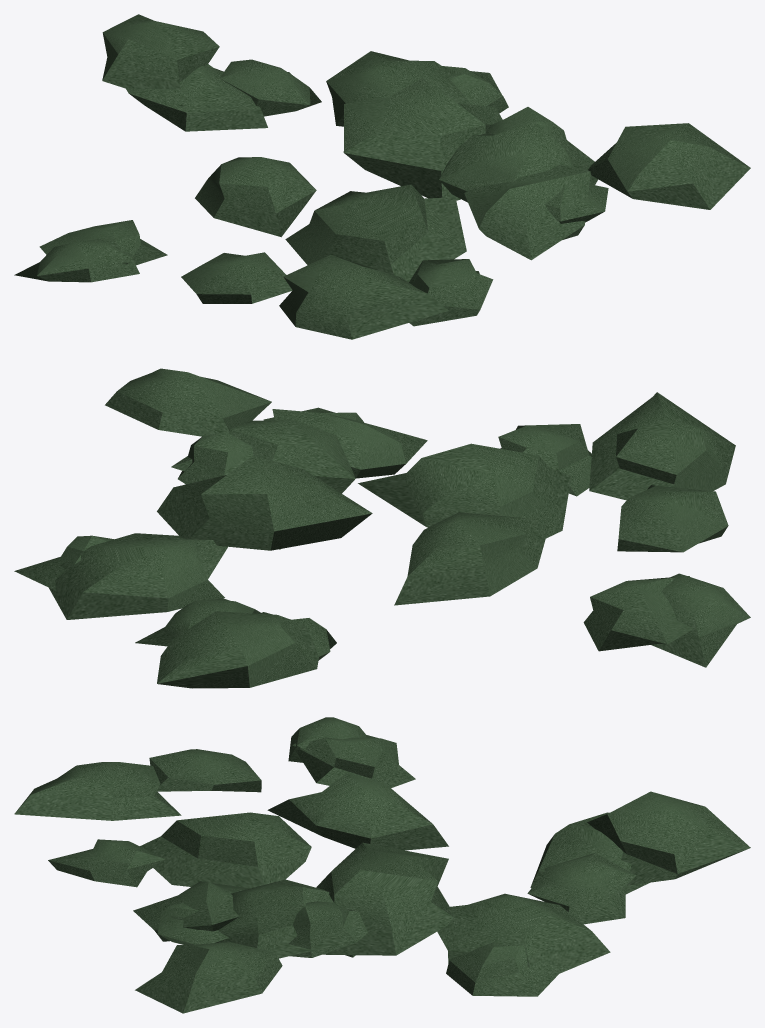
The model's file is brush_mat_7.glb.
3 views of the same model, one above another, from view 1: azimuth 30°, elevation 25°; view 2: azimuth 150°, elevation 25°; view 3: azimuth 270°, elevation 25° (orthographic). The views are drawn at different scales.
Parts seen in each view (by area): view 1: brush_mat_7; view 2: brush_mat_7; view 3: brush_mat_7.
Boxes of the visible parts, x1,y1,x2,y2 form: brush_mat_7: (14,14,750,339); brush_mat_7: (14,368,750,688); brush_mat_7: (14,717,750,1013).
Bounding box in the file's own units: 3.04 × 0.3614 × 3.14.
1 material, 1 textured.
